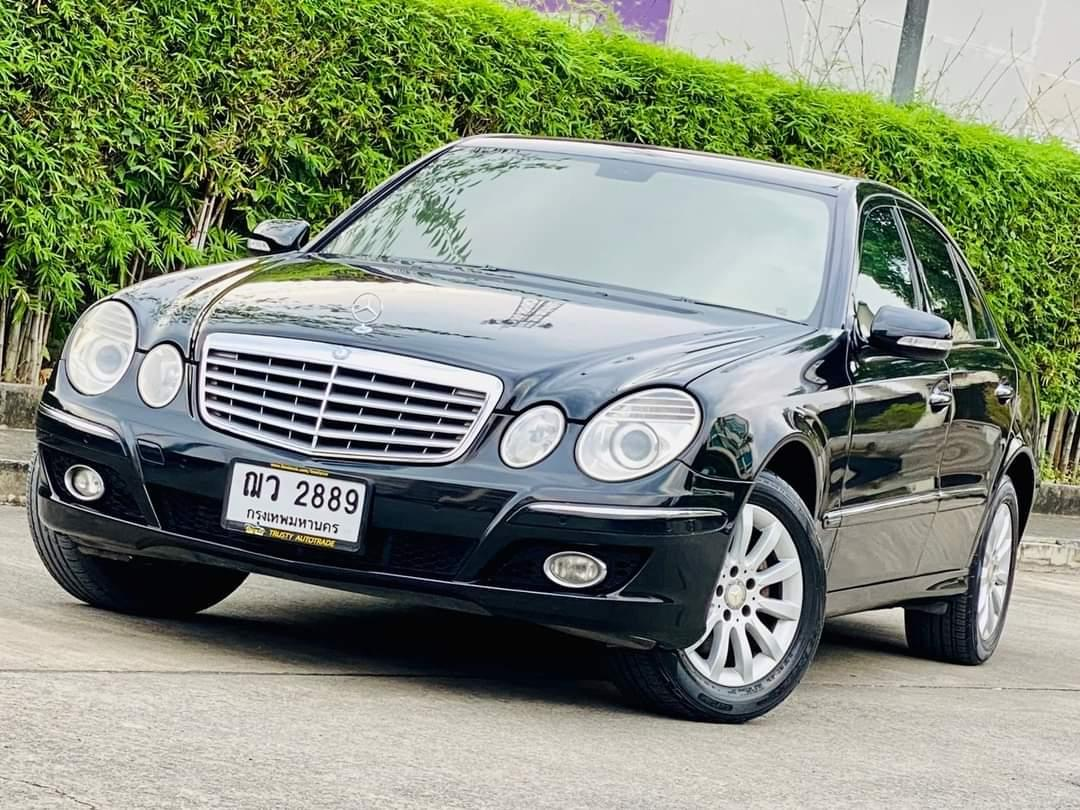license-plate: (217, 456, 377, 558)
